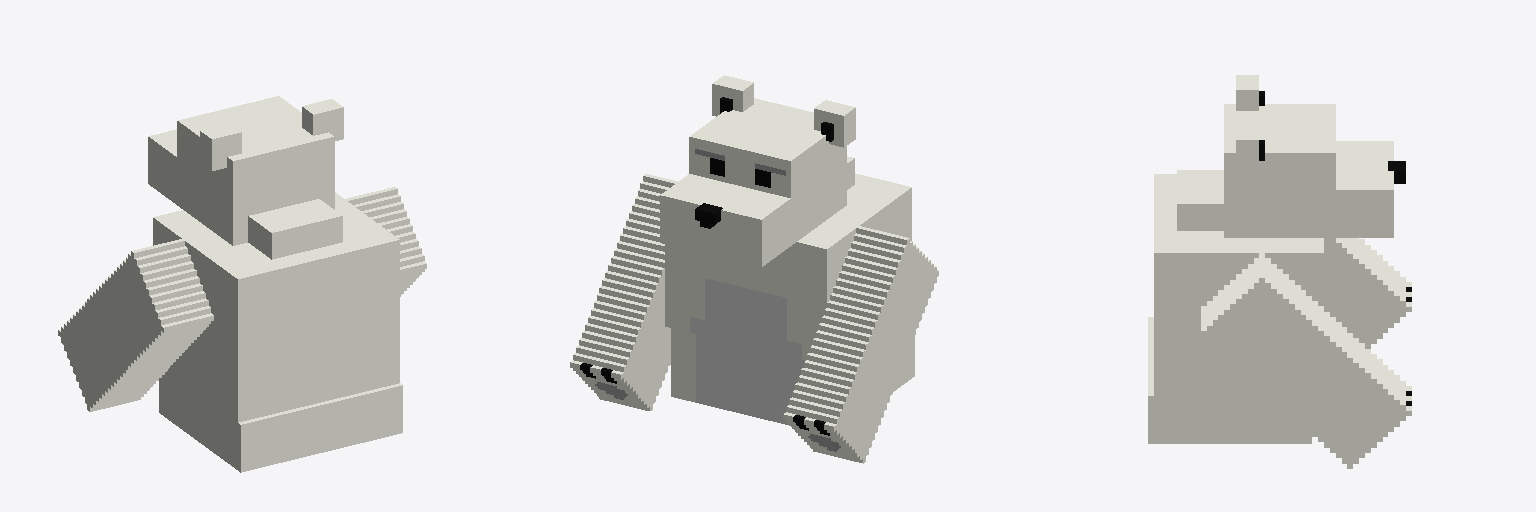
3 renders of one model, left to right at view 1: azimuth 30°, elevation 25°; view 2: azimuth 150°, elevation 25°; view 3: azimuth 270°, elevation 25°, orthographic.
Visible parts, largest first — view 1: object 1; view 2: object 1; view 3: object 1.
Part boxes in pixels (bbox=[...]): object 1: bbox=[58, 96, 426, 472]; object 1: bbox=[570, 75, 938, 463]; object 1: bbox=[1148, 75, 1411, 468].
Bounding box in the file's own units: 5.2 × 5.6 × 4.5.
1 materials, 1 textured.